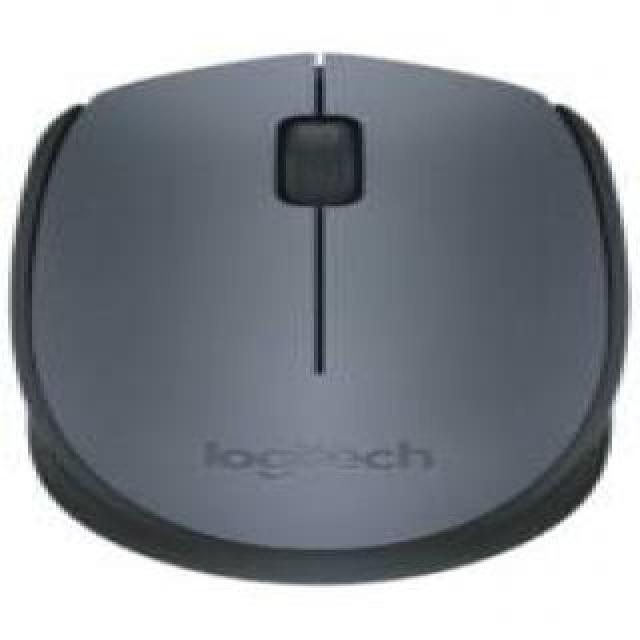mouse: (27, 40, 629, 628)
